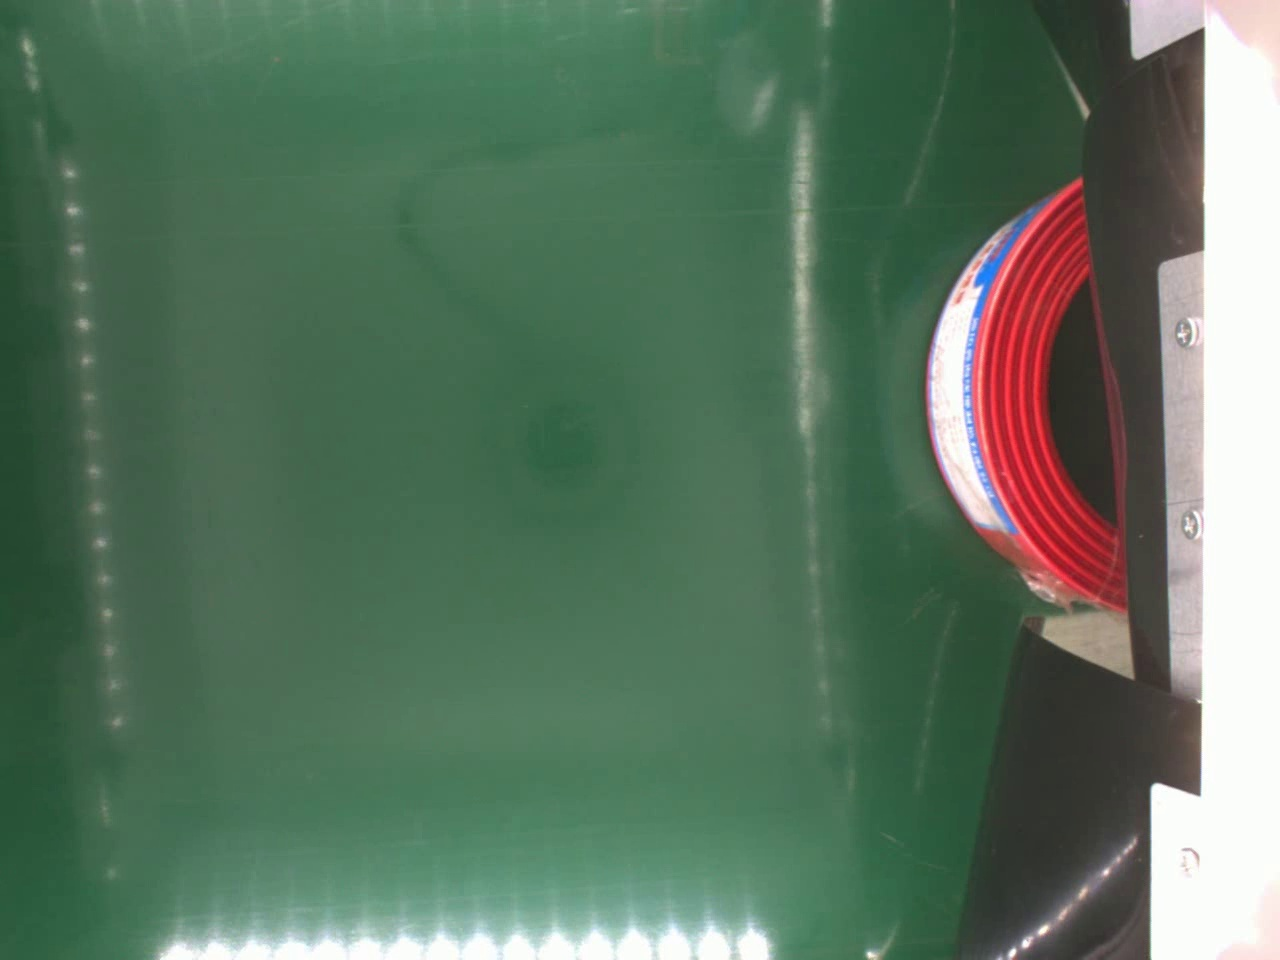red: (925, 176, 1127, 618)
